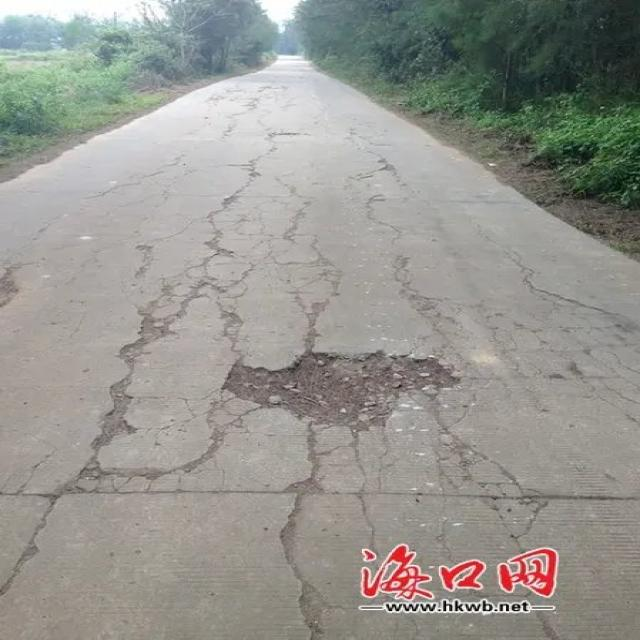Pothole: (218, 348, 462, 436)
